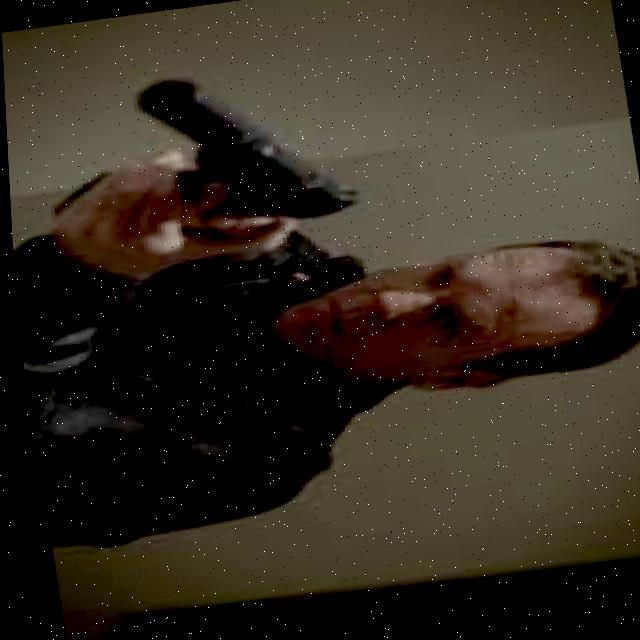pistol: (131, 58, 357, 238)
